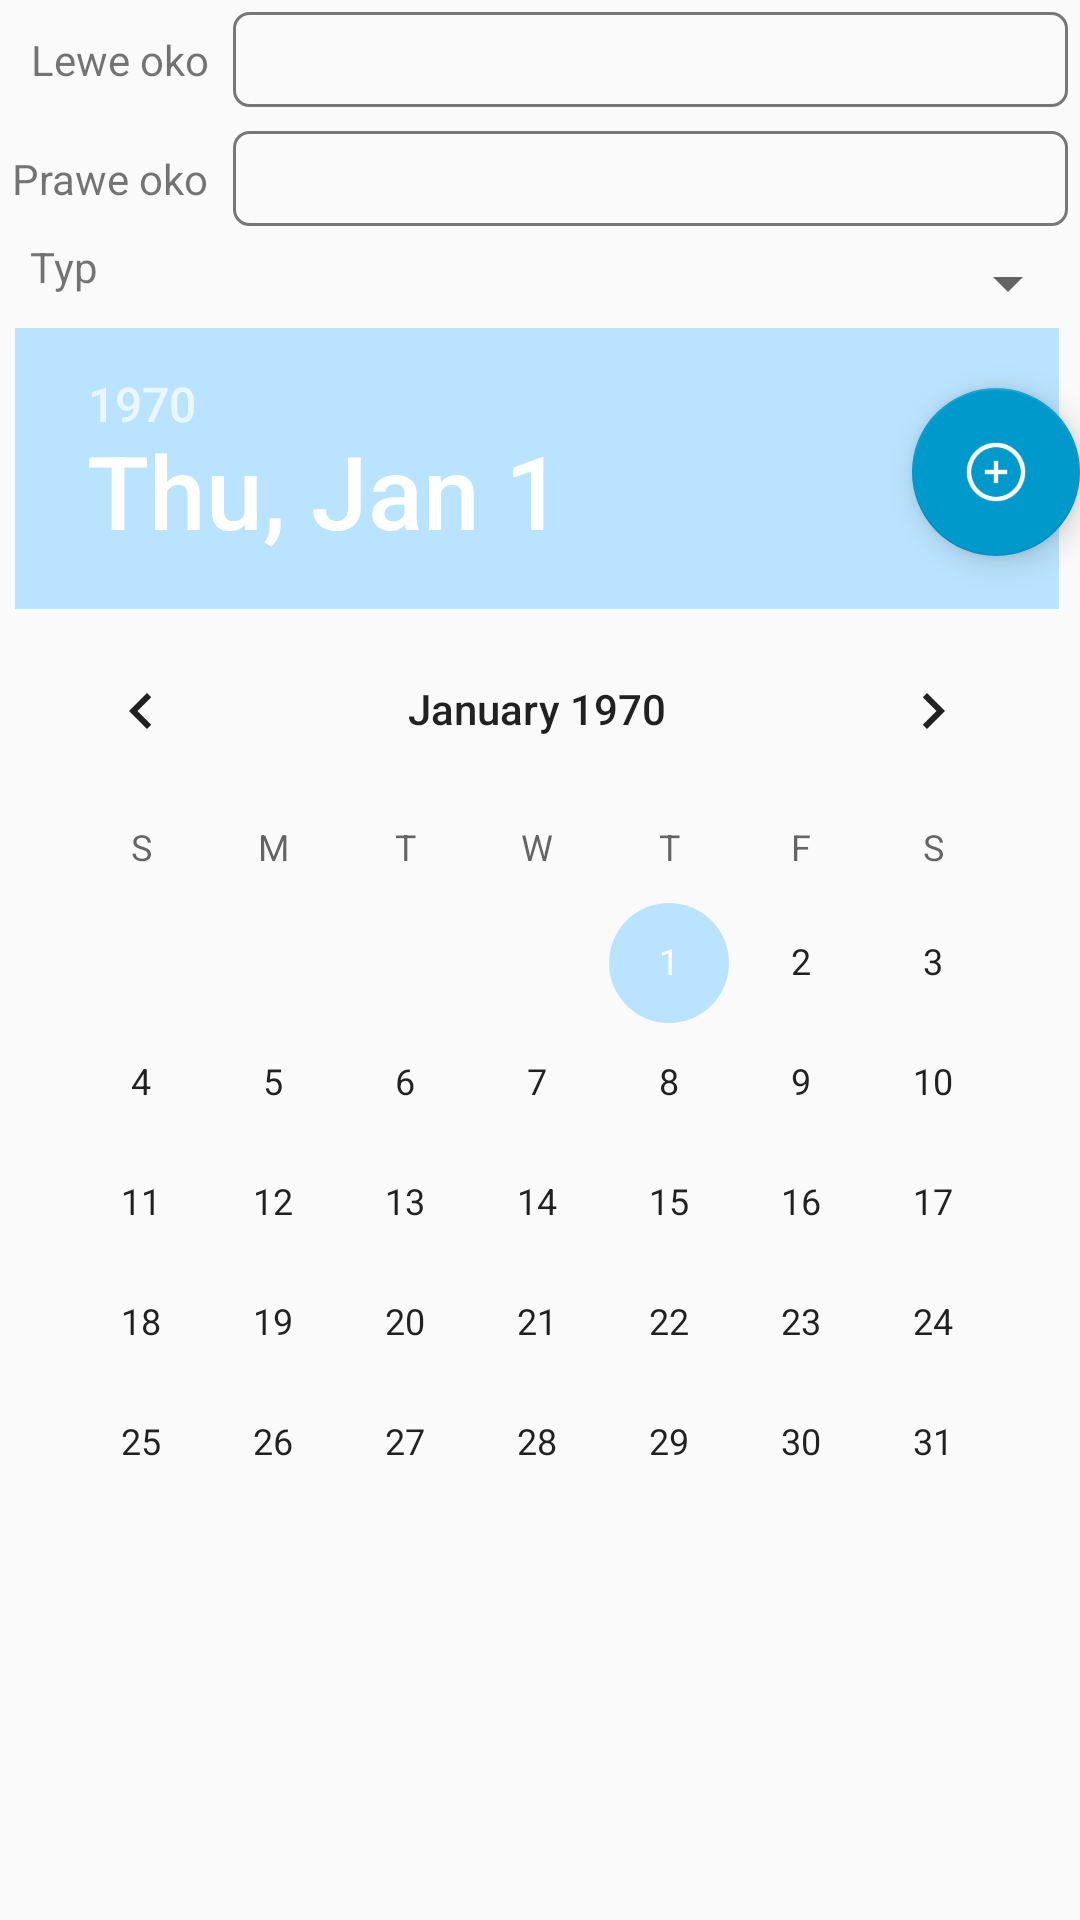

Icon bounding boxes for this 1080px×1920px phone screenshot, format {"left": x1, "top": y1, "right": x2, "bottom": y2}:
add: {"left": 912, "top": 388, "right": 1080, "bottom": 556}
